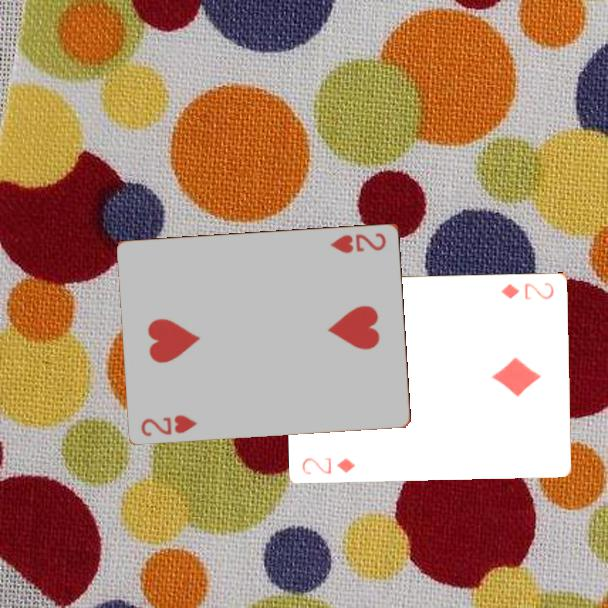d02: (498, 278, 557, 302), (299, 454, 358, 477)
h02: (138, 411, 200, 439), (327, 229, 389, 256)
